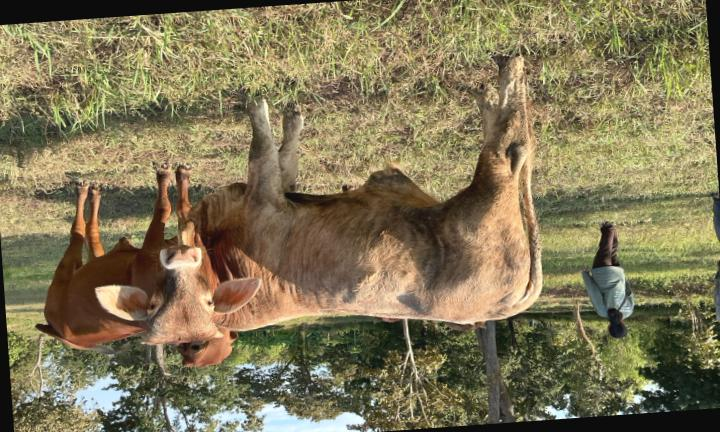Charolais: (94, 57, 542, 344)
